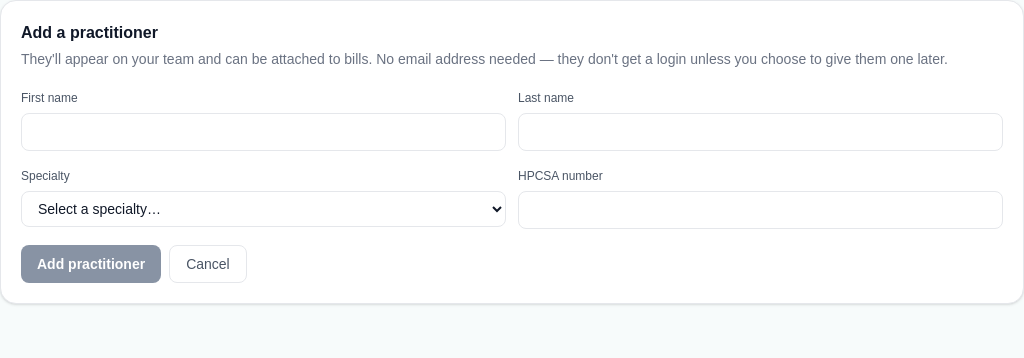
Test: the form guards its own inputs › surfaces a server error and keeps what was typed
Type "Naledi" into the field labelled "First name" at point(264, 132), box x1=21 y1=113 x2=506 y2=151
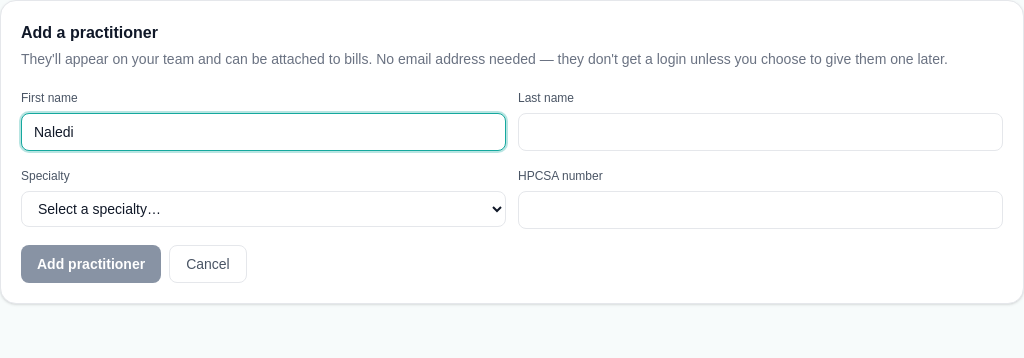
Type "Khumalo" into the field labelled "Last name" at point(760, 132), box x1=518 y1=113 x2=1003 y2=151
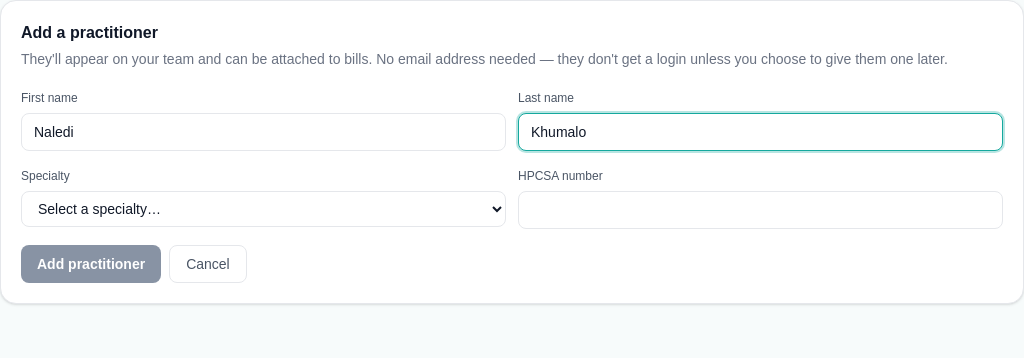
Select "General Dental Practitioner" in the dropdown labelled "Specialty" at point(264, 209), box x1=21 y1=191 x2=506 y2=227
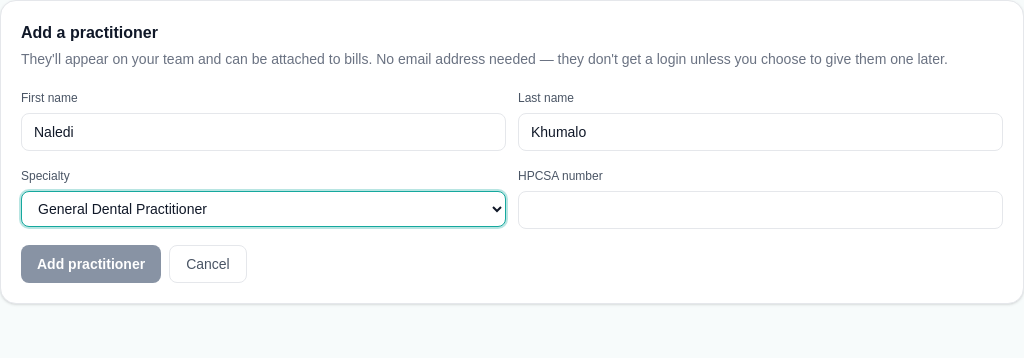
Type "MP0123456" into the field labelled "HPCSA number" at point(760, 210), box x1=518 y1=191 x2=1003 y2=229
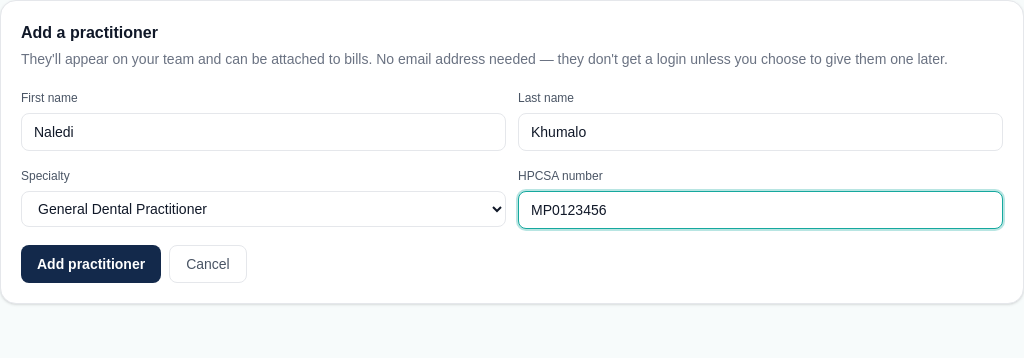
Click the button "Add practitioner" at point(91, 264), box x1=21 y1=245 x2=161 y2=283
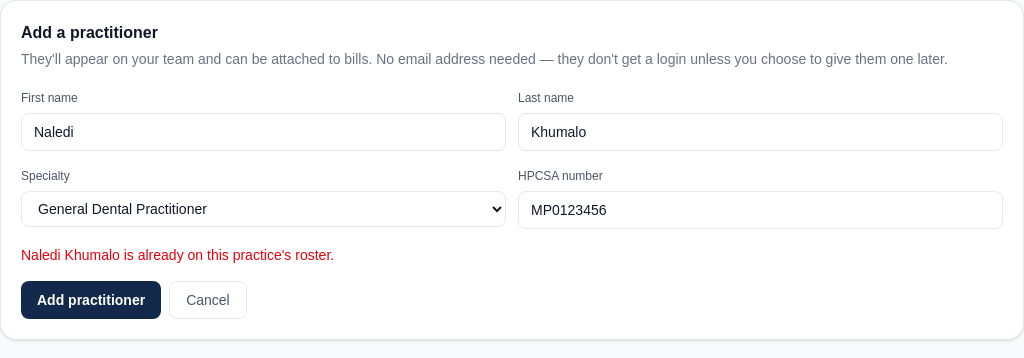
Check: the message with test id "add-provider-error" shows "already on this practice", box x1=21 y1=247 x2=334 y2=263
